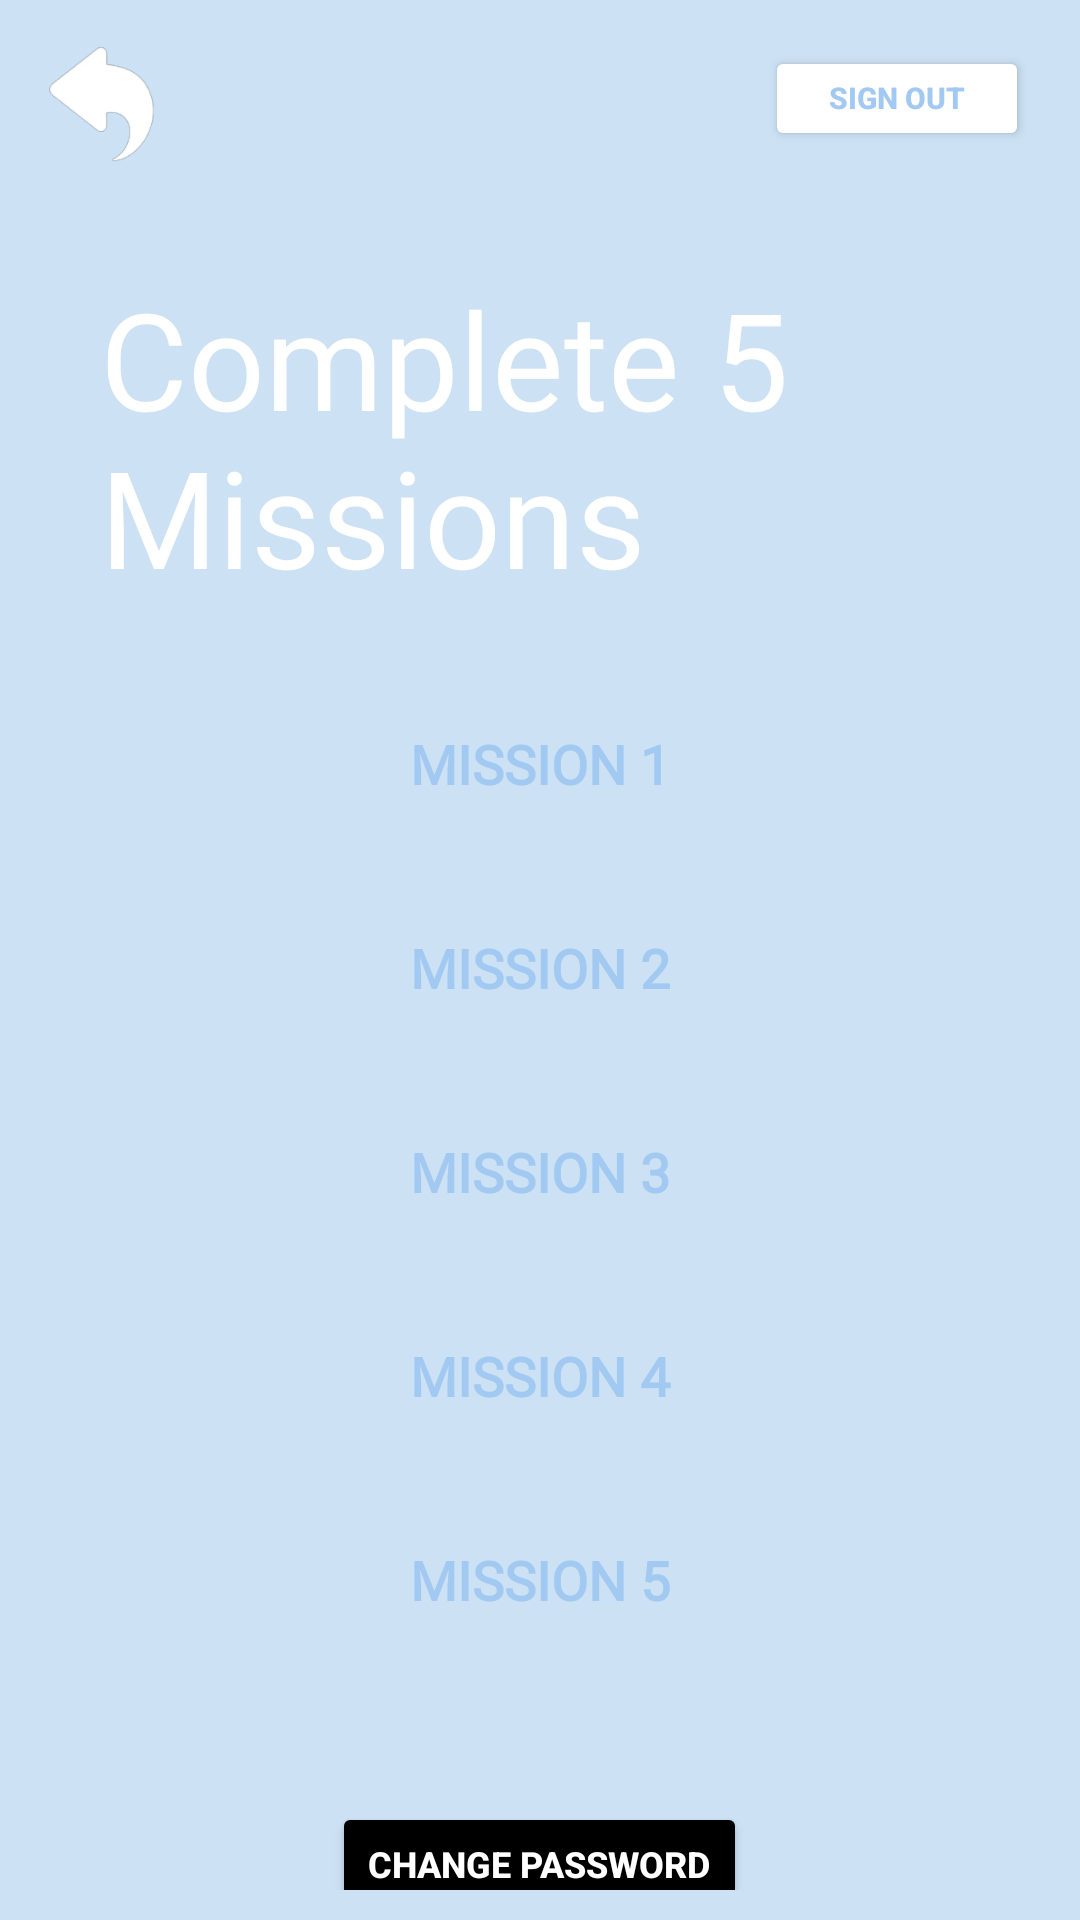

Where icons sit on this 1080*1920 app screen, as (x1, y1, x2, y2):
back: (49, 47, 154, 161)
